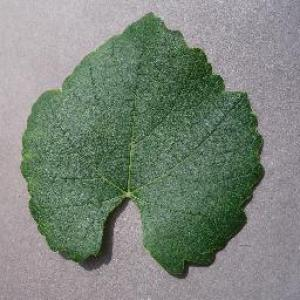Folha: (19, 10, 265, 278)
